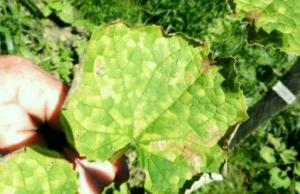Tomato leaf bacterial spot: (14, 0, 297, 194)
